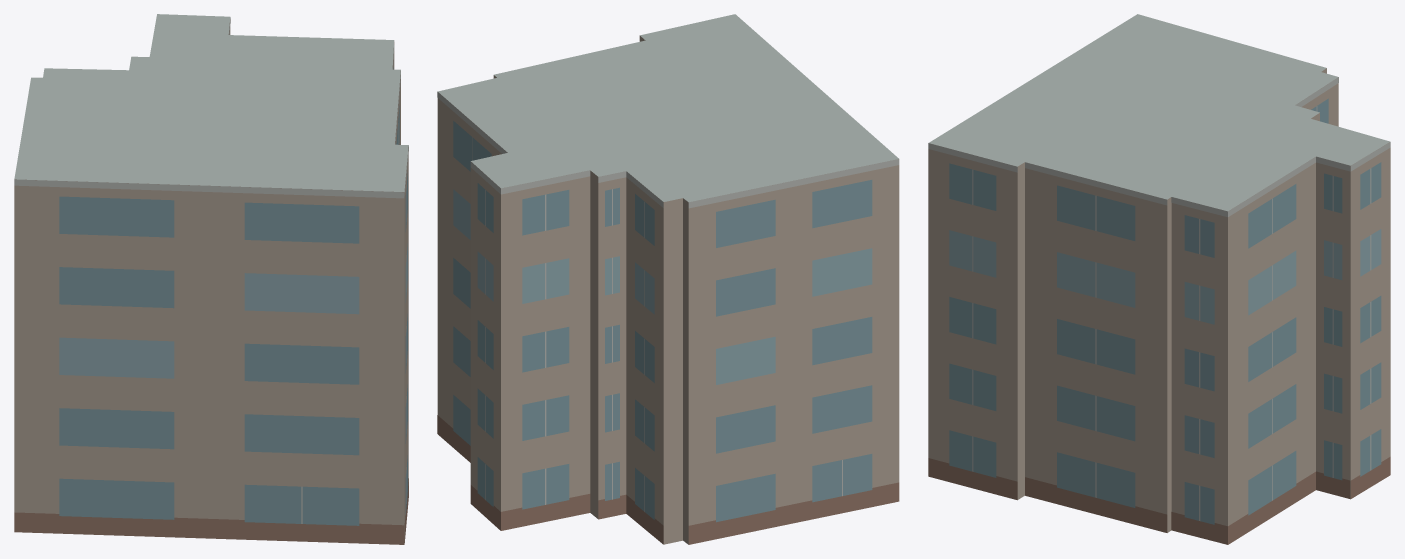
File: survey-upis-32677381.glb
The picture shows the model from 3 angles, left to right: view 1: azimuth 30°, elevation 25°; view 2: azimuth 150°, elevation 25°; view 3: azimuth 270°, elevation 25°; orthographic projection. The views are drawn at different scales.
Parts seen in each view (by area): view 1: survey-upis-32677381.tmp; view 2: survey-upis-32677381.tmp; view 3: survey-upis-32677381.tmp.
Part boxes in pixels (<box>): survey-upis-32677381.tmp: <box>14,14,408,544</box>; survey-upis-32677381.tmp: <box>437,14,899,544</box>; survey-upis-32677381.tmp: <box>928,14,1390,544</box>.
Size of the model in its own units: 17.36 by 13.67 by 17.17.
